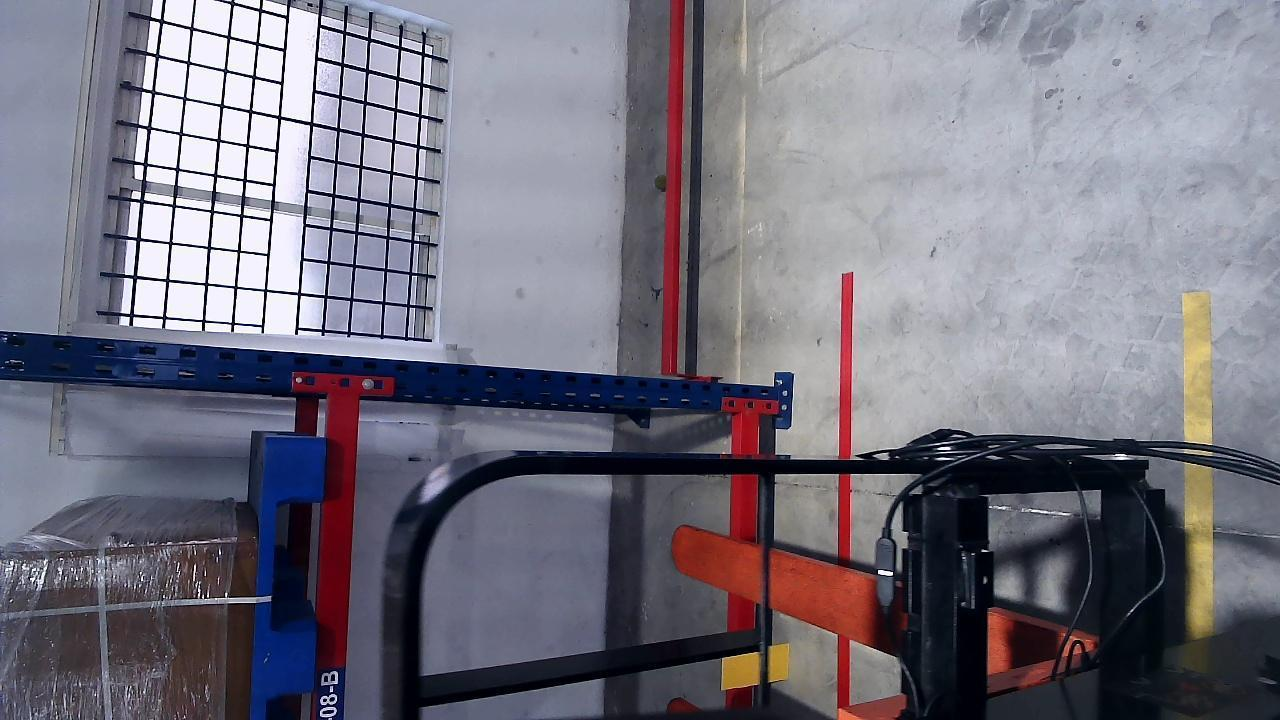red_line: (838, 271, 855, 720)
yellow_line: (1181, 291, 1215, 646)
